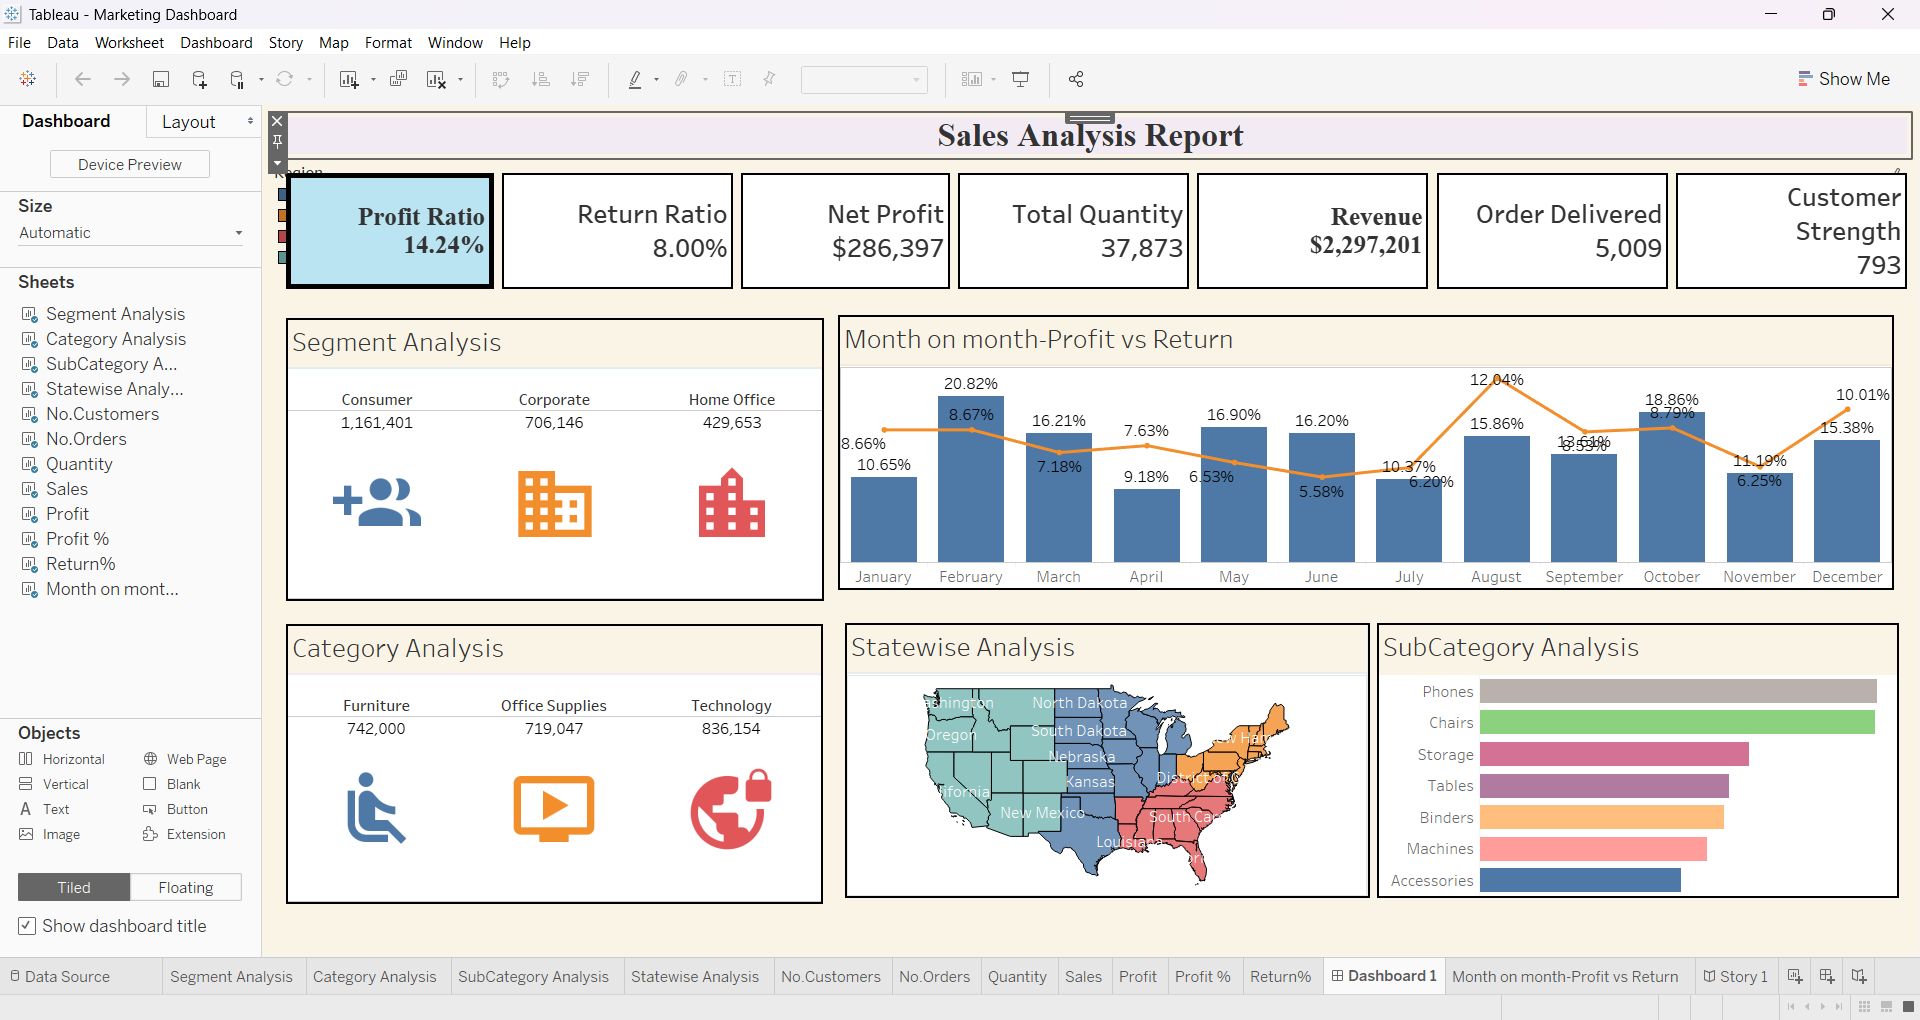

What the dashboard file says about the page in this screenshot:
{"tool":"tableau","page":{"name":"Dashboard 1","canvas":[1000,1000],"units":"permille","ordinal":0},"visuals":[{"type":"title","box":[4.8,9.4,990.3,52.9]},{"type":"legend","title":"Statewise Analysis","param":"[federated.00m8p9d1fq0d0z1avzlal05g98ka].[none:Region:nk]","box":[4.8,62.3,990.3,134]},{"type":"worksheet","title":"Profit %","mark":"Automatic","box":[12.1,75.2,130.4,145.7]},{"type":"worksheet","title":"Return%","mark":"Automatic","box":[142.4,75.2,144.3,145.7]},{"type":"worksheet","title":"Profit","mark":"Automatic","box":[286.8,75.2,131,145.7]},{"type":"worksheet","title":"Quantity","mark":"Automatic","box":[417.7,75.2,144.3,145.7]},{"type":"worksheet","title":"Sales","mark":"Automatic","box":[562.1,75.2,144.3,145.7]},{"type":"worksheet","title":"No.Orders","mark":"Automatic","box":[706.4,75.2,144.3,145.7]},{"type":"worksheet","title":"No.Customers","mark":"Automatic","box":[850.8,75.2,144.3,145.7]},{"type":"worksheet","title":"Month on month-Profit vs Return","mark":"Automatic","rows":["Calculation_374361721039052801","Calculation_374361721041338371"],"cols":["Order Date"],"box":[345.2,242.1,642.1,332.6]},{"type":"worksheet","title":"Segment Analysis","mark":"Shape","cols":["Segment"],"box":[14.5,250.3,324.7,332.6]},{"type":"worksheet","title":"Statewise Analysis","mark":"Multipolygon","box":[349.4,604,321.4,332.6]},{"type":"worksheet","title":"SubCategory Analysis","mark":"Automatic","rows":["SubCategory"],"cols":["Sales"],"box":[670.8,604,320.2,332.6]},{"type":"worksheet","title":"Category Analysis","mark":"Shape","cols":["Category"],"box":[14.5,609.9,324.1,329]}]}

Visuals, with their boxes on the dashboard's canvas, which has no fixed pixel size, in thousandths of its width and height (x1, y1, x2, y2). These are canvas units, not pixel positions in the 1920x1020 screenshot, which may show the page scaled, cropped or inside an application window:
title: [5,9,995,62]
"Statewise Analysis" legend: [5,62,995,196]
"Profit %" worksheet: [12,75,142,221]
"Return%" worksheet: [142,75,287,221]
"Profit" worksheet: [287,75,418,221]
"Quantity" worksheet: [418,75,562,221]
"Sales" worksheet: [562,75,706,221]
"No.Orders" worksheet: [706,75,851,221]
"No.Customers" worksheet: [851,75,995,221]
"Month on month-Profit vs Return" worksheet: [345,242,987,575]
"Segment Analysis" worksheet (Shape marks): [14,250,339,583]
"Statewise Analysis" worksheet (Multipolygon marks): [349,604,671,937]
"SubCategory Analysis" worksheet: [671,604,991,937]
"Category Analysis" worksheet (Shape marks): [14,610,339,939]
